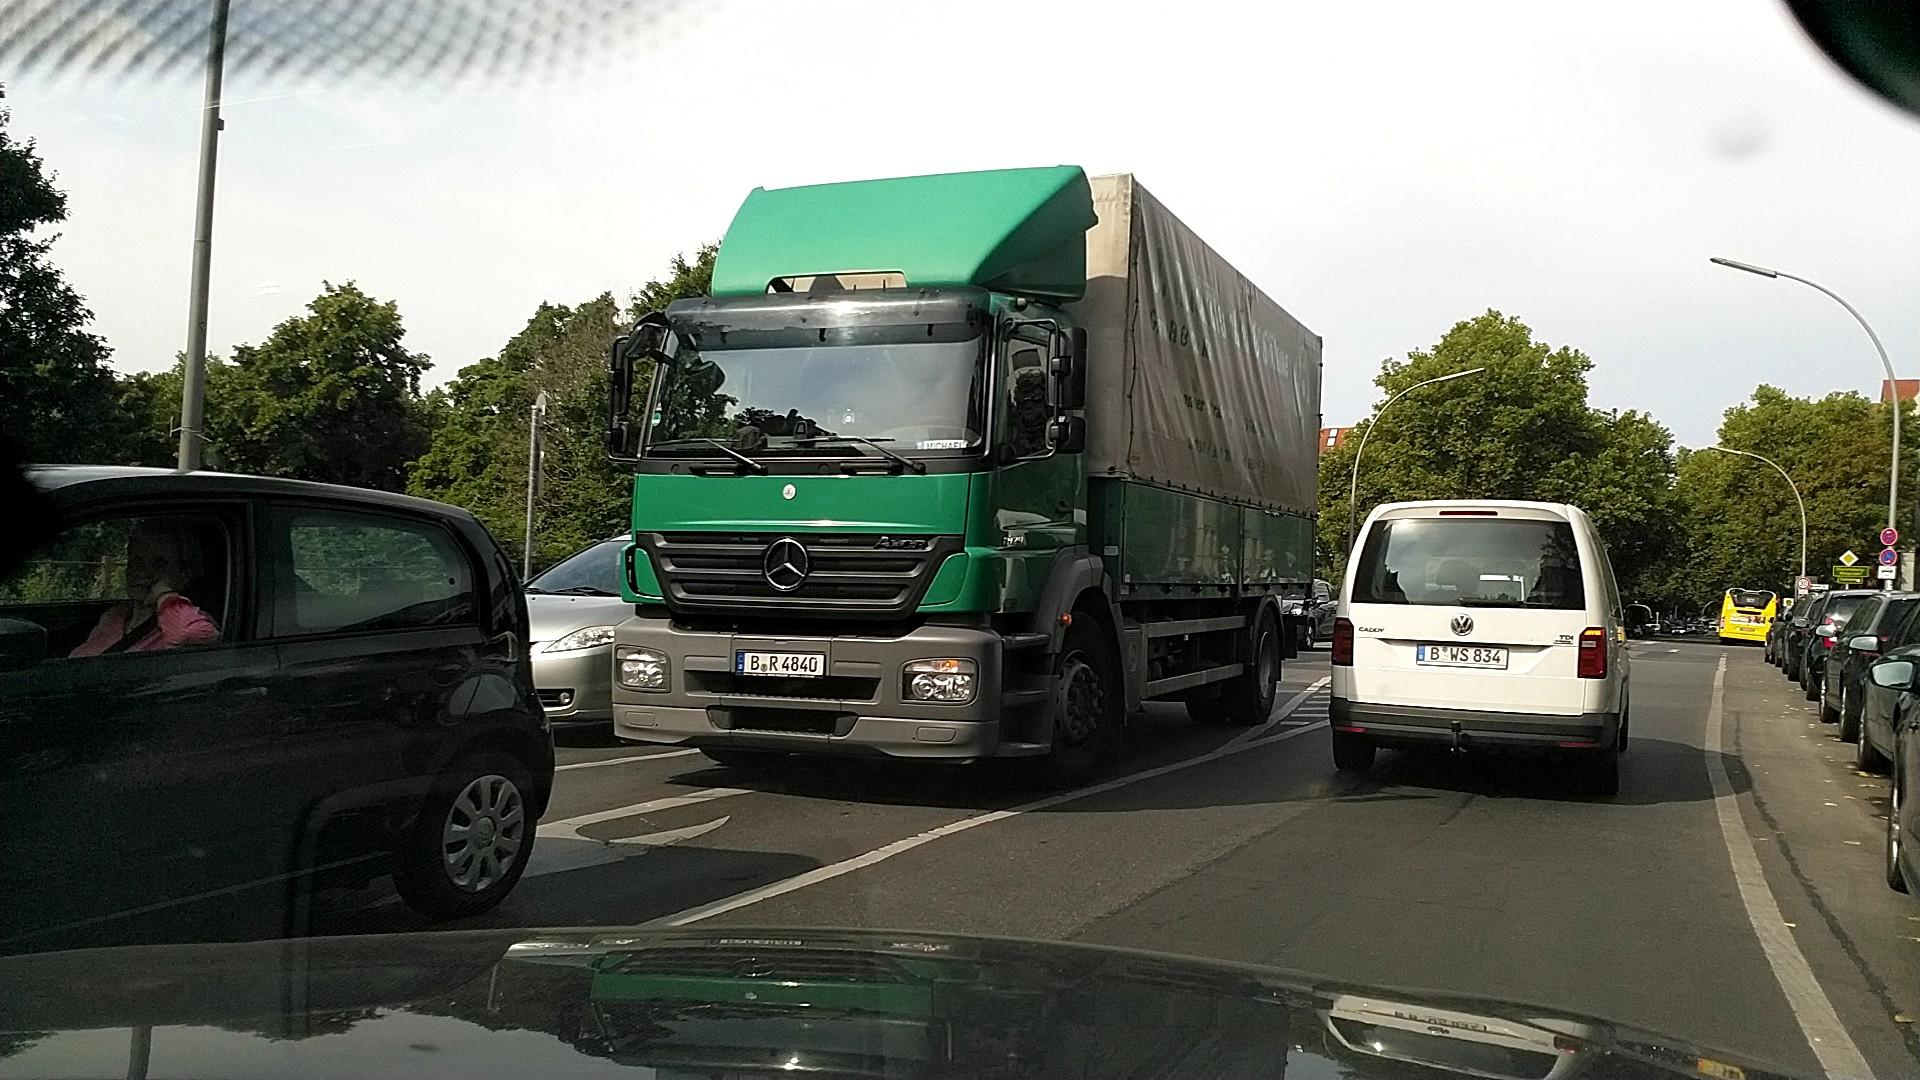Human face: (123, 520, 189, 608)
Vehicle registration plate: (734, 648, 825, 678), (1417, 643, 1506, 669)
